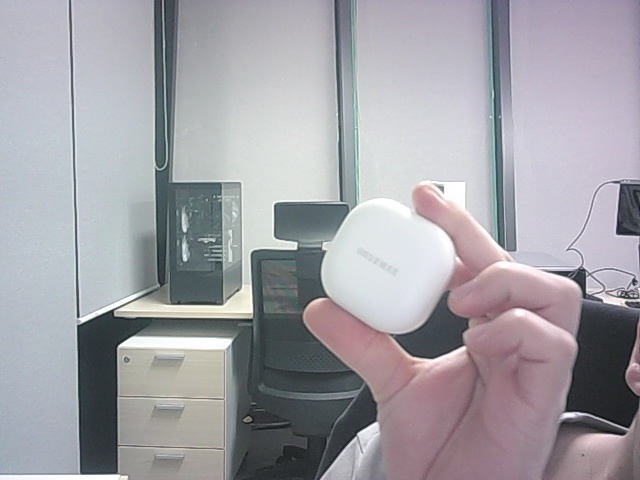case: (321, 198, 454, 334)
